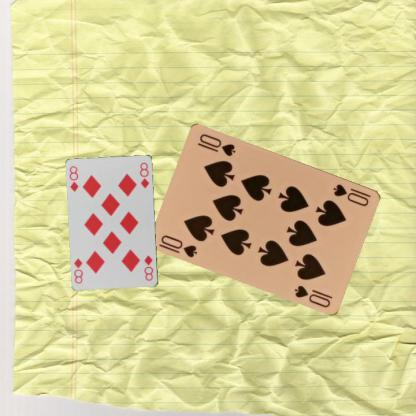10s: (330, 181, 373, 207), (158, 232, 199, 259)
8d: (67, 163, 80, 193), (142, 252, 154, 282)
